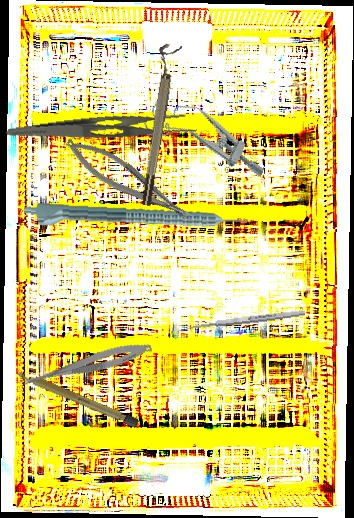Dressing Forceps: (4, 104, 200, 158)
Fixation Ring: (132, 42, 182, 207)
Handpiece: (23, 202, 248, 239)
Micro Scissor: (14, 336, 154, 397)
Needle Holder: (59, 128, 197, 234)
Scalpel Handle: (15, 367, 140, 429)
Speculum: (139, 89, 277, 187)
Surgical Spoon: (178, 308, 306, 333)
